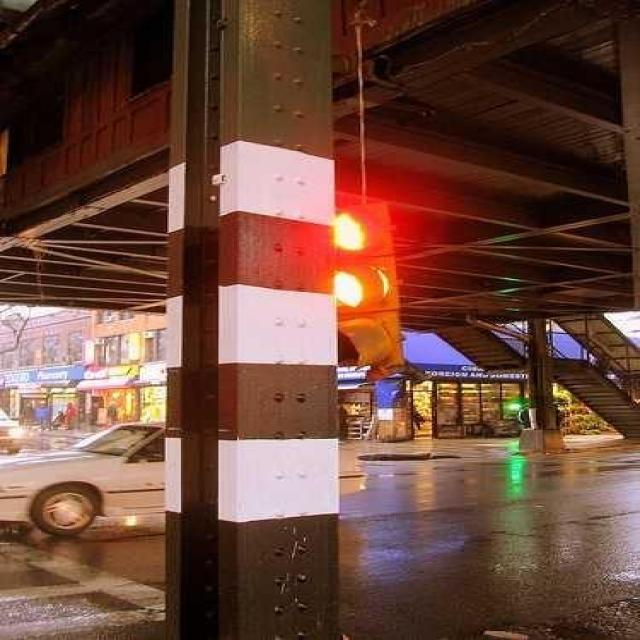Traffic Light -Yellow-: (310, 201, 390, 387)
